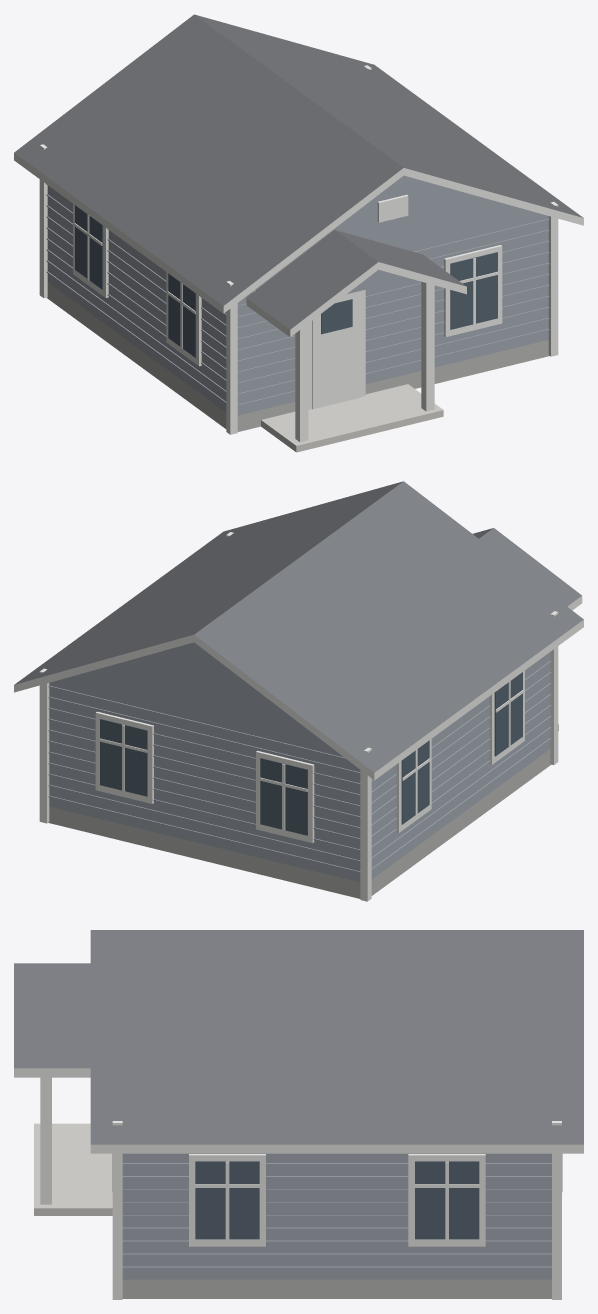
The model's file is ripon-cottage.glb.
The picture shows the model from 3 angles, top to bottom: view 1: azimuth 30°, elevation 25°; view 2: azimuth 150°, elevation 25°; view 3: azimuth 270°, elevation 25°; orthographic projection. The views are drawn at different scales.
Visible parts, largest first — view 1: The Ripon (cottage); view 2: The Ripon (cottage); view 3: The Ripon (cottage).
Boxes of the visible parts, bbox=[...] form: The Ripon (cottage): bbox=[14, 14, 583, 452]; The Ripon (cottage): bbox=[14, 481, 583, 901]; The Ripon (cottage): bbox=[14, 930, 583, 1299].
Bounding box in the file's own units: 6.86 × 4.27 × 7.98.
